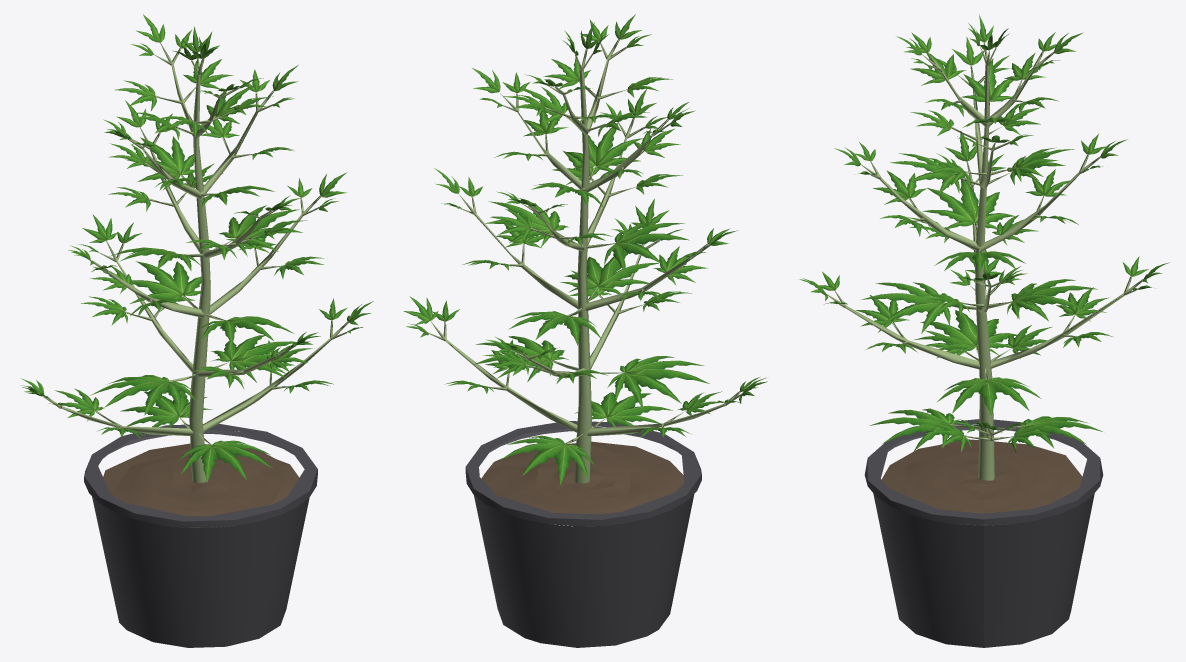
Rendered from zatla-plant-lite.glb.
The picture shows the model from 3 angles, left to right: view 1: azimuth 30°, elevation 25°; view 2: azimuth 150°, elevation 25°; view 3: azimuth 270°, elevation 25°; orthographic projection.
Parts seen in each view (by area): view 1: Zatla_Plant; view 2: Zatla_Plant; view 3: Zatla_Plant.
Boxes of the visible parts, x1=… form: Zatla_Plant: x1=21, y1=14, x2=373, y2=647; Zatla_Plant: x1=403, y1=14, x2=767, y2=647; Zatla_Plant: x1=798, y1=14, x2=1169, y2=647.
Bounding box in the file's own units: 0.6241 × 0.968 × 0.5582.
4 materials, 1 textured.
